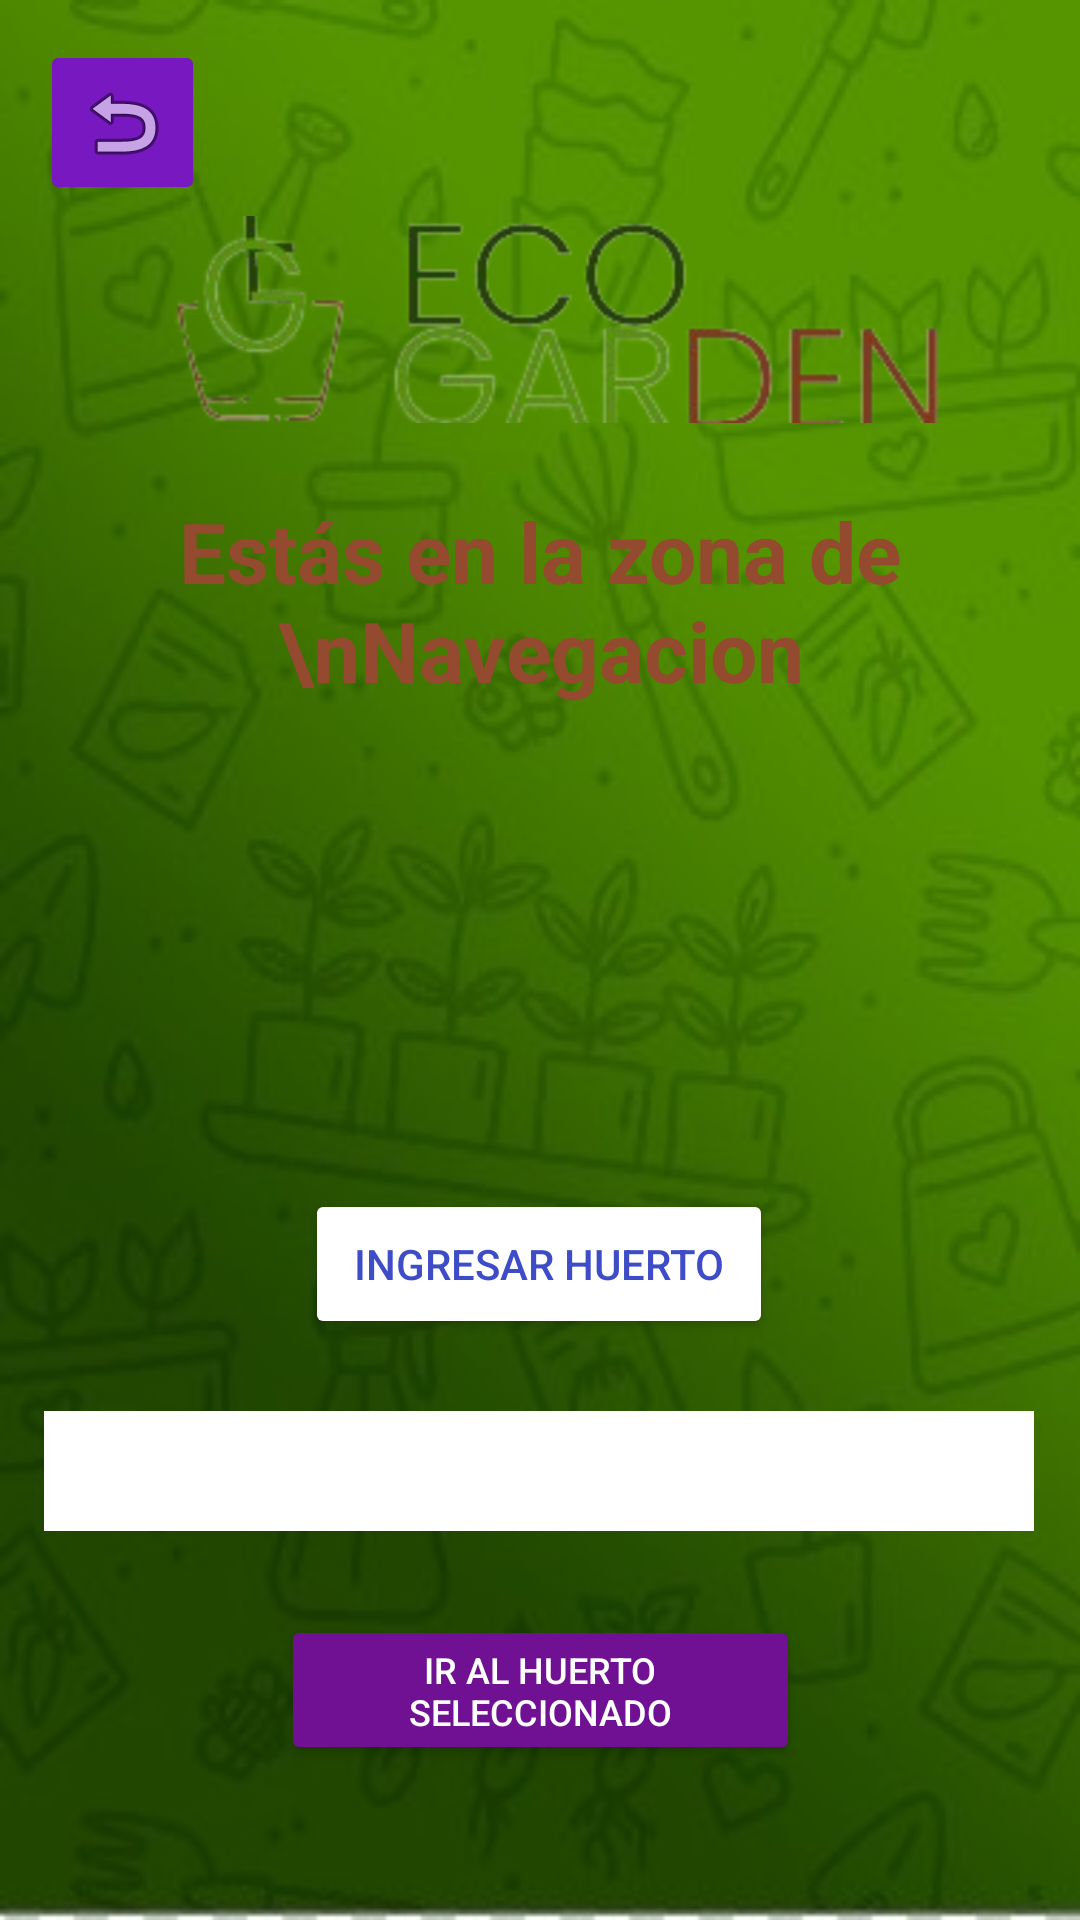

Icon bounding boxes for this 1080 × 1920 phone screenshot, format rect(x1, y1, x2, y2):
Regresar: rect(52, 58, 193, 187)
